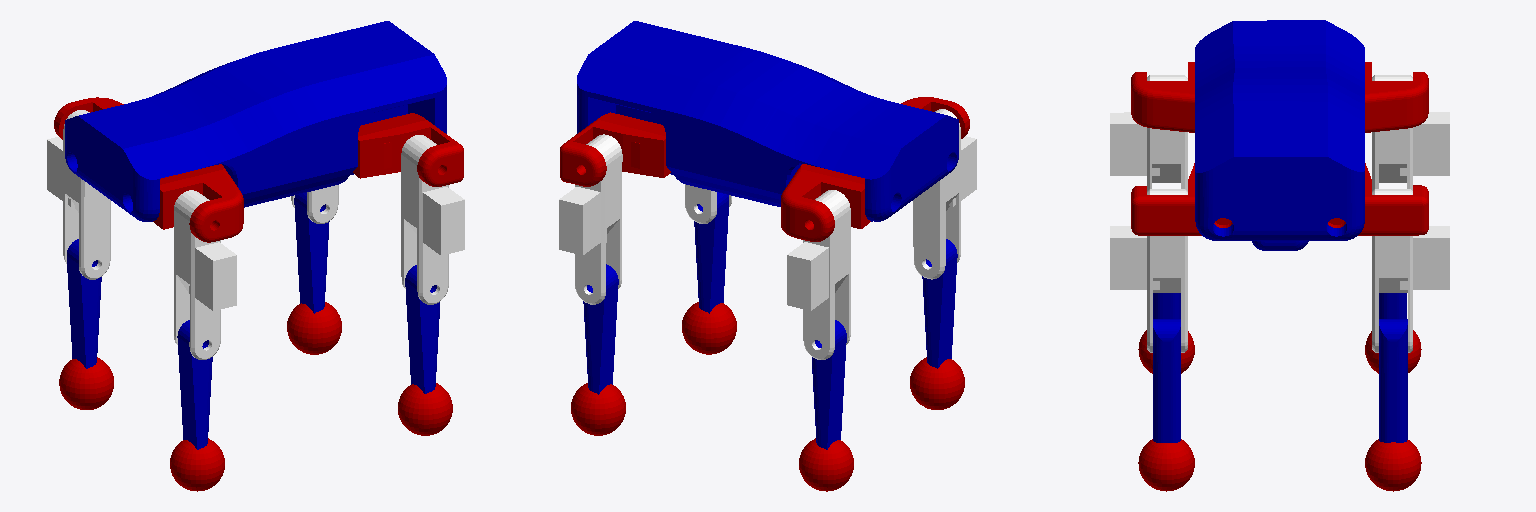
robot.urdf — materials:
<?xml version="1.0"?>
<robot name="materials">

  <material name="blue">
    <color rgba="0 0 0.8 1"/>
  </material>

  <material name="white">
    <color rgba="1 1 1 1"/>
  </material>

  <material name="red">
    <color rgba="0.8 0 0 1"/>
  </material>

  <link name="base_link">
    <collision>
    <origin rpy="1.57 0 -1.57"/>
        <geometry>
	  <mesh filename="package://STL_simulation/base_link.stl"/>
        </geometry>
    </collision>
    <inertial>
      <origin xyz="0.018 , 2.287E-04 , 0.01"/>
      <mass value="1.248" />
      <inertia ixx="0.002" ixy="7.984E-08" ixz="-2.045E-04"
                              iyy="0.007" iyz="-2.383E-06"
                                              izz="0.007" />
    </inertial>
    <visual>
      <origin rpy="1.57 0 -1.57"/>
      <geometry>
        <mesh filename="package://STL_simulation/base_link.stl"/>
      </geometry>
      <material name="blue"/>
    </visual>
  </link>


#FRONT RIGHT
  <link name="coxa_FR">
    <inertial>
      <mass value="0.075" />
      <inertia ixx="3.724E-05" ixy="9.731E-06"  ixz="0"
                                iyy="2.829E-05" iyz="0"
                                                 izz="5.581E-05" />
    </inertial>    
    <visual>
      <origin rpy="1.57 0 -1.57" xyz='0 0.04 0'/>
      <geometry>
        <mesh filename="package://STL_simulation/coxa_fr.stl"/>
      </geometry>
      <material name="red"/>
    </visual>
  </link>

  <link name="femur_FR">
    <inertial>
      <mass value="0.084" />
      <inertia ixx="7.552E-05" ixy="-3.399E-08"  ixz="9.599E-08"
                                iyy="6.041E-05" iyz="-1.244E-06"
                                                 izz="2.256E-05" />
    </inertial>   
    <visual>
      <geometry>
        <mesh filename="package://STL_simulation/femur_fr.stl"/>
      </geometry>
      <origin rpy="1.57 0 -1.57" xyz="-0.095 0.04 0"/>
      <material name="white"/>
    </visual>
  </link>

  <link name="tibia_FR">
    <inertial>
      <mass value="0.034" />
      <inertia ixx="3.218E-05" ixy="0.00" ixz="-4.239E-09"
                               iyy="3.195E-05"  iyz="0.00"
                                               izz="1.847E-06" />
    </inertial>   
    <visual>
      <geometry>
        <mesh filename="package://STL_simulation/tibia_fr.stl"/>
      </geometry>
      <origin rpy="1.57 0 -1.57"  xyz="-0.095 0.04 0.1"/>
      <material name="blue"/>
    </visual>
  </link>

  <link name="foot_FR">
    <collision>
      <geometry>
        <sphere radius="0.02"/>
      </geometry>
    </collision>
    <inertial>
      <mass value="0.0044" />
      <inertia ixx="7.04E-7" ixy="0.00" ixz="0.00"
                                 iyy="7.04E-7"  iyz="0.00"
                                                 izz="7.04E-7" />
    </inertial>   
    <visual>
      <geometry>
        <sphere radius="0.02"/>
      </geometry>
      <material name="red"/>
    </visual>
  </link>
  
  <joint name="coxaF_FR" type="revolute">
    <axis xyz="1 0 0"/>
    <limit effort="1000.0" velocity="0.5"/>
    <parent link="base_link"/>
    <child link="coxa_FR"/>
    <origin xyz="0 -0.04 0"/>
  </joint>

  <joint name="femurF_FR" type="revolute">
    <axis xyz="0 1 0"/>
    <limit effort="1000.0" velocity="0.5"/>
    <parent link="coxa_FR"/>
    <child link="femur_FR"/>
    <origin xyz="0.095 0 0"/>
  </joint>

  <joint name="tibiaF_FR" type="revolute">
    <axis xyz="0 1 0"/>
    <limit effort="1000.0" velocity="0.5"/>
    <parent link="femur_FR"/>
    <child link="tibia_FR"/>
    <origin xyz="0 0 -0.1"/>
  </joint>

  <joint name="footF_FR" type="fixed">
    <parent link="tibia_FR"/>
    <child link="foot_FR"/>
    <origin xyz="0 -0.04 -0.1"/>
  </joint>




#FRONT LEFT


  <link name="coxa_FL">
    <inertial>
      <mass value="0.075" />
      <inertia ixx="3.724E-05" ixy="-9.731E-06"  ixz="0"
                                iyy="2.829E-05" iyz="0"
                                                 izz="5.581E-05" />
    </inertial>    
    <visual>
      <origin rpy="1.57 0 -1.57" xyz='0 -0.04 0'/>
      <geometry>
        <mesh filename="package://STL_simulation/coxa_fl.stl"/>
      </geometry>
      <material name="red"/>
    </visual>
  </link>

  <link name="femur_FL">
    <inertial>
      <mass value="0.084" />
      <inertia ixx="7.552E-05" ixy="3.399E-08"  ixz="9.599E-08"
                                iyy="6.041E-05" iyz="1.244E-06"
                                                 izz="2.256E-05" />
    </inertial>   
    <visual>
      <geometry>
        <mesh filename="package://STL_simulation/femur_fl.stl"/>
      </geometry>
      <origin rpy="1.57 0 -1.57" xyz="-0.095 -0.04 0"/>
      <material name="white"/>
    </visual>
  </link>

  <link name="tibia_FL">
    <inertial>
      <mass value="0.034" />
      <inertia ixx="3.218E-05" ixy="0.00" ixz="-4.791E-09"
                               iyy="3.195E-05"  iyz="0.00"
                                               izz="1.847E-06" />
    </inertial>   
    <visual>
      <geometry>
        <mesh filename="package://STL_simulation/tibia_fl.stl"/>
      </geometry>
      <origin rpy="1.57 0 -1.57"  xyz="-0.095 -0.04 0.1"/>
      <material name="blue"/>
    </visual>
  </link>

  <link name="foot_FL">
    <collision>
      <geometry>
        <sphere radius="0.02"/>
      </geometry>
    </collision>
    <inertial>
      <mass value="0.0044" />
      <inertia ixx="7.04E-7" ixy="0.00" ixz="0.00"
                                 iyy="7.04E-7"  iyz="0.00"
                                                 izz="7.04E-7" />
    </inertial>   
    <visual>
      <geometry>
        <sphere radius="0.02"/>
      </geometry>
      <material name="red"/>
    </visual>
  </link>
  
  <joint name="coxaF_FL" type="revolute">
    <axis xyz="1 0 0"/>
    <limit effort="1000.0" velocity="0.5"/>
    <parent link="base_link"/>
    <child link="coxa_FL"/>
    <origin xyz="0 0.04 0"/>
  </joint>

  <joint name="femurF_FL" type="revolute">
    <axis xyz="0 1 0"/>
    <limit effort="1000.0" velocity="0.5"/>
    <parent link="coxa_FL"/>
    <child link="femur_FL"/>
    <origin xyz="0.095 0 0"/>
  </joint>

  <joint name="tibiaF_FL" type="revolute">
    <axis xyz="0 1 0"/>
    <limit effort="1000.0" velocity="0.5"/>
    <parent link="femur_FL"/>
    <child link="tibia_FL"/>
    <origin xyz="0 0 -0.1"/>
  </joint>

  <joint name="footF_FL" type="fixed">
    <parent link="tibia_FL"/>
    <child link="foot_FL"/>
    <origin xyz="0 0.04 -0.1"/>
  </joint>






#BACK RIGHT





  <link name="coxa_BR">
    <inertial>
      <mass value="0.09" />
      <origin xyz="0.0973055 -0.0661692 -0.00513185"/>
      <inertia ixx="4.690E-05" ixy="3.095E-06"  ixz="0.00"
                                iyy="2.886E-05" iyz="0.00"
                                                 izz="6.367E-05" />
    </inertial>    
    <visual>
      <origin rpy="1.57 0 -1.57" xyz='0 0.04 0'/>
      <geometry>
        <mesh filename="package://STL_simulation/coxa_br.stl"/>
      </geometry>
      <material name="red"/>
    </visual>
  </link>

  <link name="femur_BR">
    <inertial>
      <mass value="0.085" />
      <inertia ixx="7.605E-05" ixy="0.00"  ixz="0.00"
                                iyy="6.090E-05" iyz="-1.120E-06"
                                                 izz="2.264E-05" />
    </inertial>   
    <visual>
      <geometry>
        <mesh filename="package://STL_simulation/femur_br.stl"/>
      </geometry>
      <origin rpy="1.57 0 -1.57" xyz="0.095 0.04 0"/>
      <material name="white"/>
    </visual>
  </link>

  <link name="tibia_BR">
    <inertial>
      <mass value="0.034" />
      <inertia ixx="3.218E-05" ixy="0.00" ixz="-4.239E-09"
                               iyy="3.195E-05"  iyz="0.00"
                                               izz="1.847E-06" />
    </inertial>   
    <visual>
      <geometry>
        <mesh filename="package://STL_simulation/tibia_br.stl"/>
      </geometry>
      <origin rpy="1.57 0 -1.57"  xyz="0.095 0.04 0.1"/>
      <material name="blue"/>
    </visual>
  </link>

  <link name="foot_BR">
    <collision>
      <geometry>
        <sphere radius="0.02"/>
      </geometry>
    </collision>
    <inertial>
      <mass value="0.0044" />
      <inertia ixx="7.04E-7" ixy="0.00" ixz="0.00"
                                 iyy="7.04E-7"  iyz="0.00"
                                                 izz="7.04E-7" />
    </inertial>   
    <visual>
      <geometry>
        <sphere radius="0.02"/>
      </geometry>
      <material name="red"/>
    </visual>
  </link>
  
  <joint name="coxaF_BR" type="revolute">
    <axis xyz="1 0 0"/>
    <limit effort="1000.0" velocity="0.5"/>
    <parent link="base_link"/>
    <child link="coxa_BR"/>
    <origin xyz="0 -0.04 0"/>
  </joint>

  <joint name="femurF_BR" type="revolute">
    <axis xyz="0 1 0"/>
    <limit effort="1000.0" velocity="0.5"/>
    <parent link="coxa_BR"/>
    <child link="femur_BR"/>
    <origin xyz="-0.095 0 0"/>
  </joint>

  <joint name="tibiaF_BR" type="revolute">
    <axis xyz="0 1 0"/>
    <limit effort="1000.0" velocity="0.5"/>
    <parent link="femur_BR"/>
    <child link="tibia_BR"/>
    <origin xyz="0 0 -0.1"/>
  </joint>

  <joint name="footF_BR" type="fixed">
    <parent link="tibia_BR"/>
    <child link="foot_BR"/>
    <origin xyz="0 -0.04 -0.1"/>
  </joint>


#BACK LEFT




    <link name="coxa_BL">
    <inertial>
      <mass value="0.09" />
      <inertia ixx="4.690E-05" ixy="-3.095E-06"  ixz="0.00"
                                iyy="2.886E-05" iyz="0.00"
                                                 izz="6.367E-05" />
    </inertial>    
    <visual>
      <origin rpy="1.57 0 -1.57" xyz='0 -0.04 0'/>
      <geometry>
        <mesh filename="package://STL_simulation/coxa_bl.stl"/>
      </geometry>
      <material name="red"/>
    </visual>
  </link>

  <link name="femur_BL">
    <inertial>
      <mass value="0.085" />
      <inertia ixx="7.605E-05" ixy="0.00"  ixz="0.00"
                                iyy="6.090E-05" iyz="1.120E-06"
                                                 izz="2.264E-05" />
    </inertial>   
    <visual>
      <geometry>
        <mesh filename="package://STL_simulation/femur_bl.stl"/>
      </geometry>
      <origin rpy="1.57 0 -1.57" xyz="0.095 -0.04 0"/>
      <material name="white"/>
    </visual>
  </link>

  <link name="tibia_BL">
    <inertial>
      <mass value="0.034" />
      <inertia ixx="3.218E-05" ixy="0.00" ixz="-4.791E-09"
                               iyy="3.195E-05"  iyz="0.00"
                                               izz="1.847E-06" />
    </inertial>   
    <visual>
      <geometry>
        <mesh filename="package://STL_simulation/tibia_bl.stl"/>
      </geometry>
      <origin rpy="1.57 0 -1.57"  xyz="0.095 -0.04 0.1"/>
      <material name="blue"/>
    </visual>
  </link>

  <link name="foot_BL">
    <collision>
      <geometry>
        <sphere radius="0.02"/>
      </geometry>
    </collision>
    <inertial>
      <mass value="0.0044" />
      <inertia ixx="7.04E-7" ixy="0.00" ixz="0.00"
                                 iyy="7.04E-7"  iyz="0.00"
                                                 izz="7.04E-7" />
    </inertial>   
    <visual>
      <geometry>
        <sphere radius="0.02"/>
      </geometry>
      <material name="red"/>
    </visual>
  </link>
  
  <joint name="coxaF_BL" type="revolute">
    <axis xyz="1 0 0"/>
    <limit effort="1000.0" velocity="0.5"/>
    <parent link="base_link"/>
    <child link="coxa_BL"/>
    <origin xyz="0 0.04 0"/>
  </joint>

  <joint name="femurF_BL" type="revolute">
    <axis xyz="0 1 0"/>
    <limit effort="1000.0" velocity="0.5"/>
    <parent link="coxa_BL"/>
    <child link="femur_BL"/>
    <origin xyz="-0.095 0 0"/>
  </joint>

  <joint name="tibiaF_BL" type="revolute">
    <axis xyz="0 1 0"/>
    <limit effort="1000.0" velocity="0.5"/>
    <parent link="femur_BL"/>
    <child link="tibia_BL"/>
    <origin xyz="0 0 -0.1"/>
  </joint>

  <joint name="footF_BL" type="fixed">
    <parent link="tibia_BL"/>
    <child link="foot_BL"/>
    <origin xyz="0 0.04 -0.1"/>
  </joint>
</robot>

--- Render facts (derived) ---
3 views of the same robot in one strip: view 1: azimuth 30°, elevation 25°; view 2: azimuth 150°, elevation 25°; view 3: azimuth 270°, elevation 25° (orthographic).
Model materials with 17 links and 16 joints (12 revolute, 4 fixed), rooted at base_link, posed every joint at zero.
Visible links, largest first — view 1: base_link, femur_FR, femur_BR, femur_BL, coxa_FR, coxa_BR, tibia_BR, tibia_BL, tibia_FR, tibia_FL, foot_BR, foot_FL (+4 smaller); view 2: base_link, femur_BL, femur_FL, femur_BR, coxa_FL, coxa_BL, tibia_FL, tibia_BL, tibia_BR, tibia_FR, foot_BL, foot_FL (+4 smaller); view 3: base_link, femur_FR, femur_FL, femur_BL, femur_BR, tibia_FL, tibia_FR, coxa_BR, coxa_BL, coxa_FL, coxa_FR, foot_FL (+5 smaller).
Link boxes in pixels (x1,y1,x2,y2): base_link: [65, 21, 446, 221]; femur_FR: [401, 135, 464, 304]; femur_BR: [174, 190, 236, 359]; femur_BL: [47, 110, 110, 279]; coxa_FR: [353, 113, 463, 186]; coxa_BR: [153, 164, 243, 242]; tibia_BR: [177, 320, 212, 449]; tibia_BL: [67, 239, 101, 368]; tibia_FR: [405, 265, 439, 393]; tibia_FL: [294, 192, 329, 313]; foot_BR: [170, 438, 224, 491]; foot_FL: [287, 302, 341, 354]; base_link: [577, 21, 958, 221]; femur_BL: [787, 190, 850, 359]; femur_FL: [559, 134, 622, 304]; femur_BR: [913, 109, 976, 279]; coxa_FL: [560, 112, 670, 186]; coxa_BL: [781, 164, 870, 241]; tibia_FL: [583, 264, 618, 394]; tibia_BL: [812, 320, 846, 449]; tibia_BR: [922, 239, 957, 368]; tibia_FR: [694, 192, 728, 313]; foot_BL: [799, 438, 853, 491]; foot_FL: [571, 383, 625, 435]; base_link: [1195, 20, 1364, 250]; femur_FR: [1110, 189, 1187, 352]; femur_FL: [1372, 189, 1449, 352]; femur_BL: [1372, 75, 1449, 190]; femur_BR: [1110, 75, 1187, 190]; tibia_FL: [1379, 319, 1407, 442]; tibia_FR: [1153, 319, 1180, 442]; coxa_BR: [1131, 62, 1194, 132]; coxa_BL: [1365, 62, 1428, 132]; coxa_FL: [1328, 163, 1428, 235]; coxa_FR: [1131, 163, 1232, 235]; foot_FL: [1365, 439, 1421, 491].
Size in the robot's own frame: 0.2601 by 0.2402 by 0.275 metres.
13 mesh visuals loaded from 13 distinct referenced files (13 binary STL).